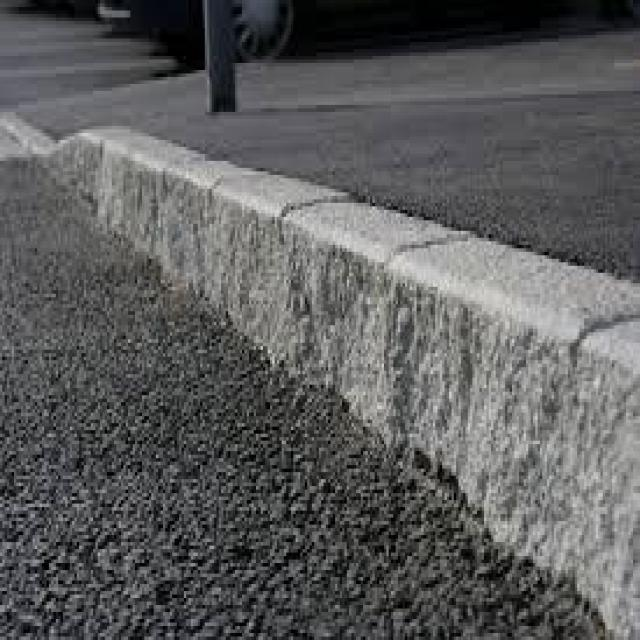curb: (329, 191, 640, 640), (90, 124, 327, 363)
